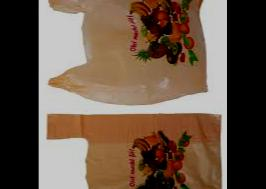Plastic: (42, 0, 215, 108), (46, 108, 227, 188)
